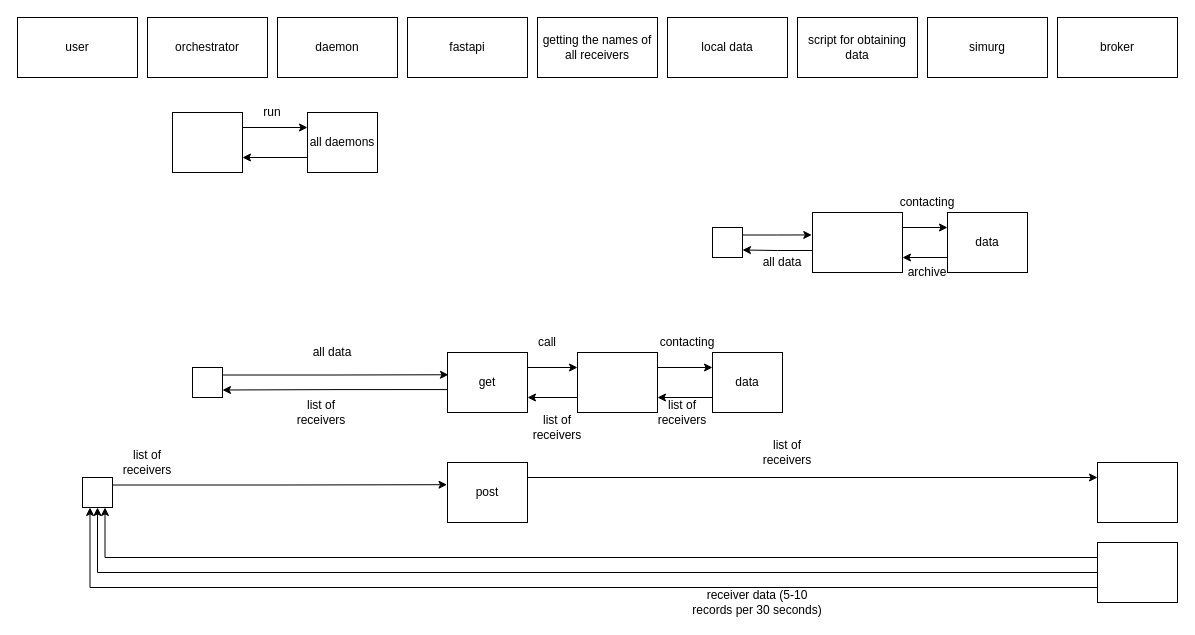
The diagram is 1195 pixels wide and 635 high, and some of its shapes have lost their labels. The shapes that lost their labels are listed below. From the top down, each one's box as (x1, y1, x2, y2) in pixels, then its label:
(812, 212, 902, 272): get data and unzip
(576, 352, 658, 412): get list of all receivers
(1096, 462, 1178, 522): subscribe
(1096, 542, 1178, 602): send
